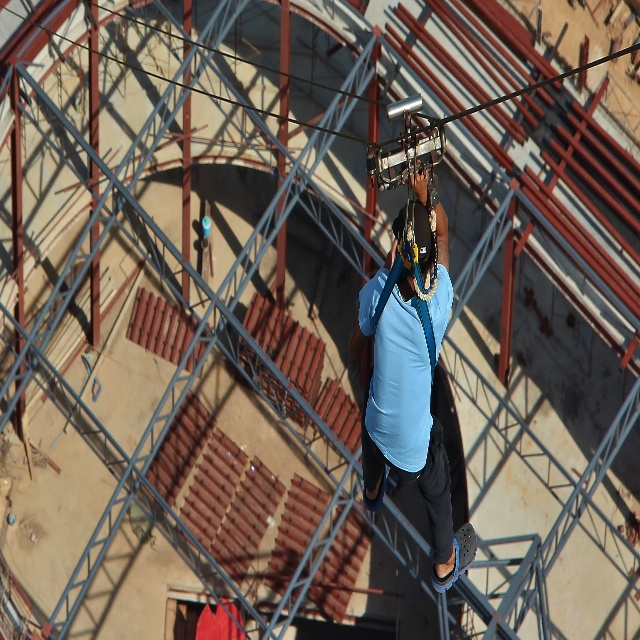Sin_guantes: (409, 159, 429, 197)
